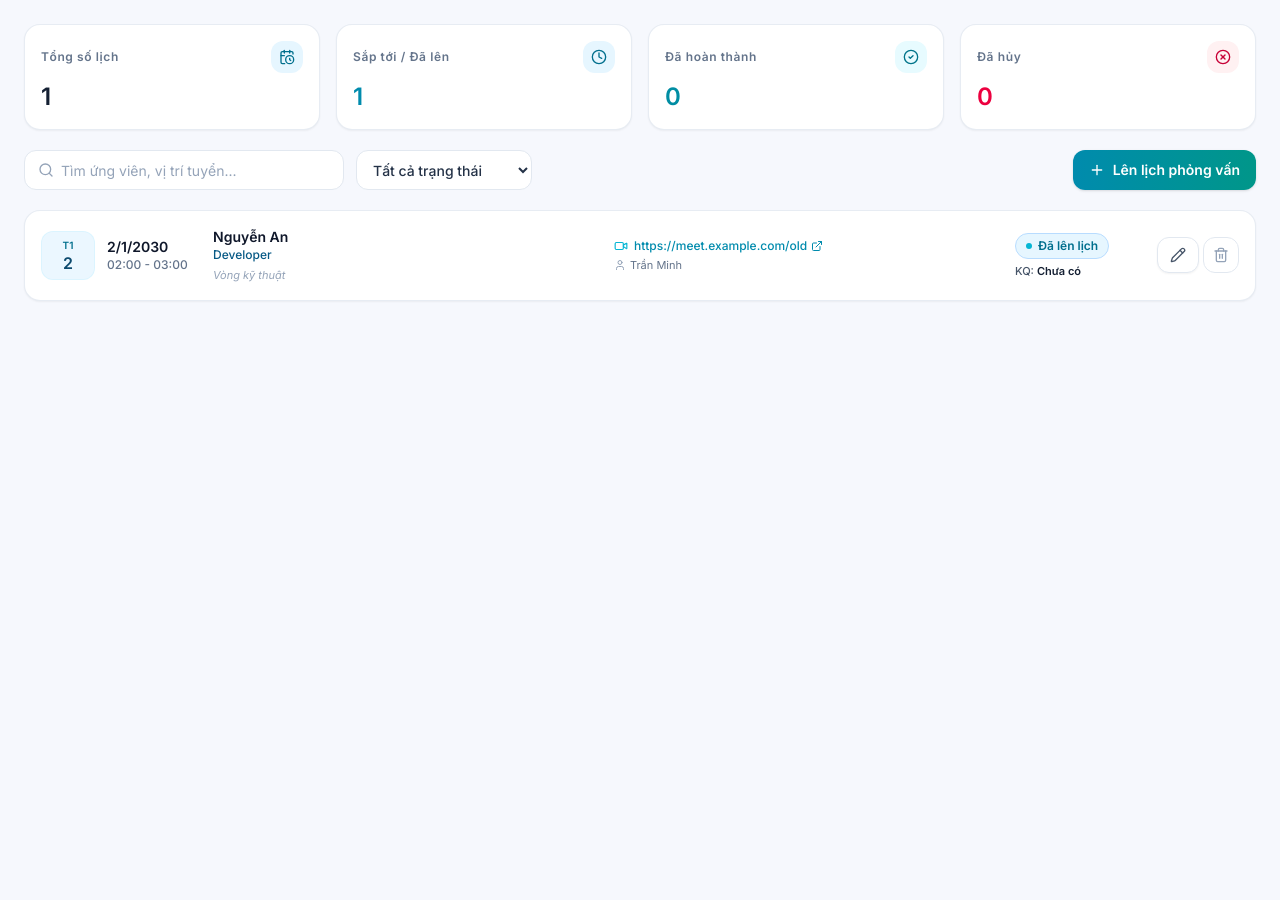
Test: RecruitmentInterviewsView › defaults the interview end to one hour after the selected start
Expected: the text "Nguyễn An" is shown, [213,228,288,245]
Click the button "Lên lịch phỏng vấn" at (1164, 170), box [1073,150,1256,190]
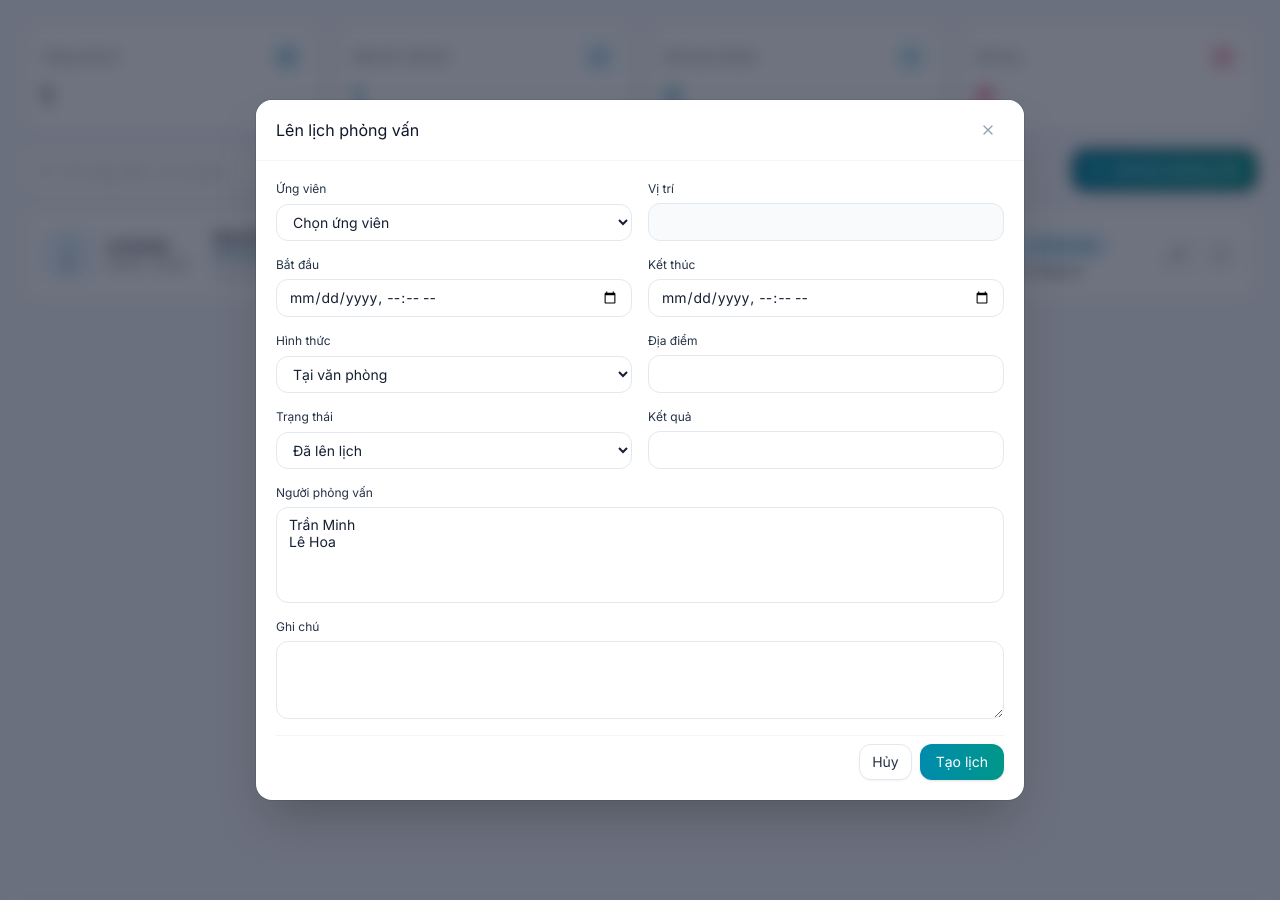
Type "2030-02-01T09:00" into the field labelled "Bắt đầu" at (454, 298), box [276,279,632,317]
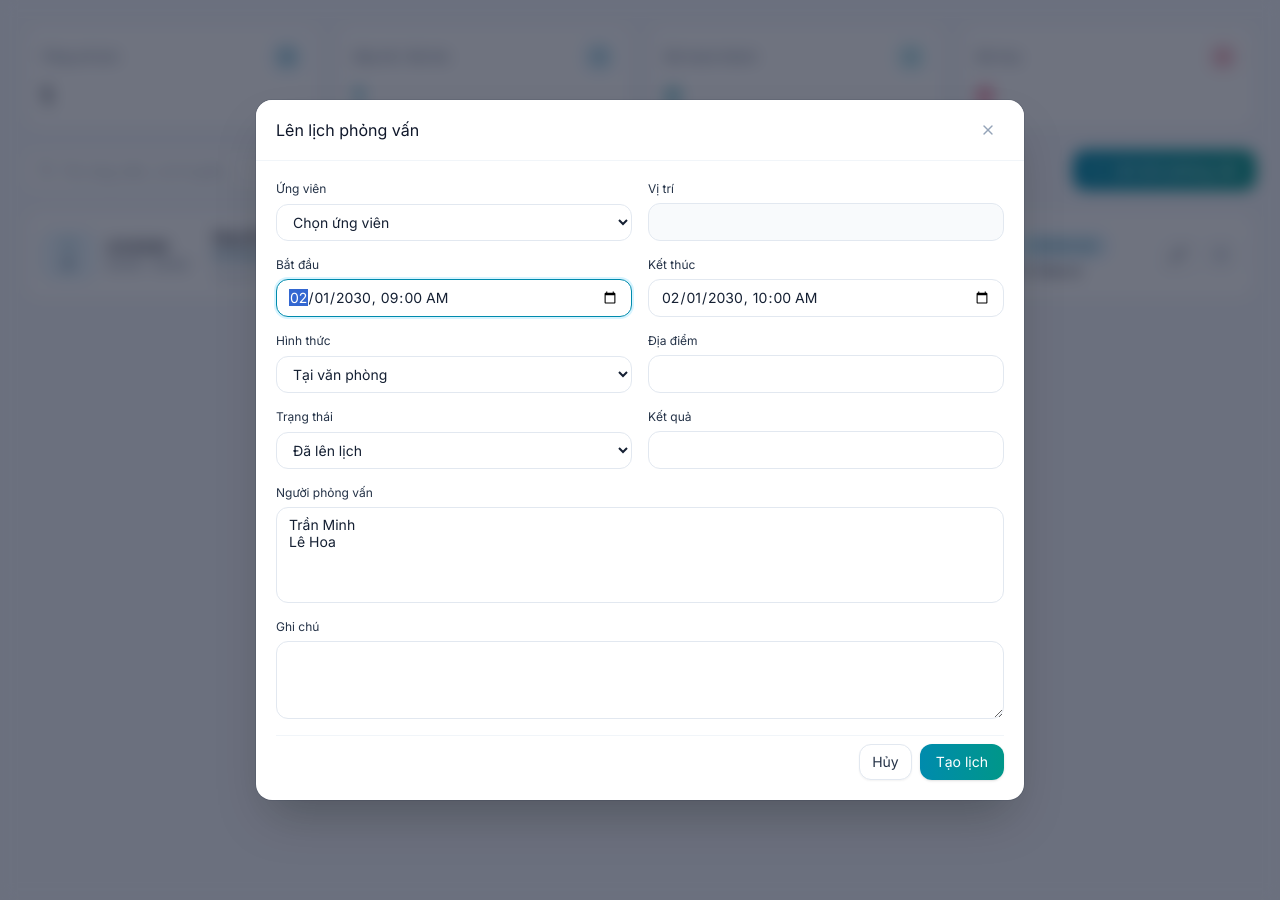
Now the field labelled "Kết thúc" holds "2030-02-01T10:00", box [648,279,1004,317]
